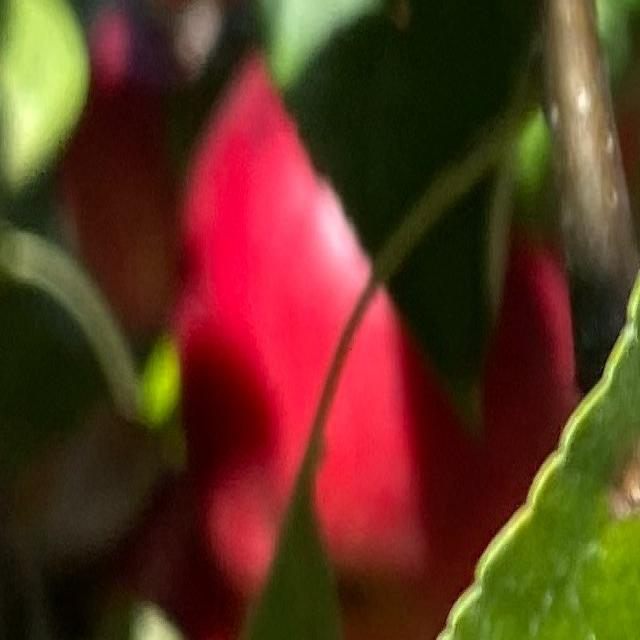Apples: (68, 0, 576, 638)
